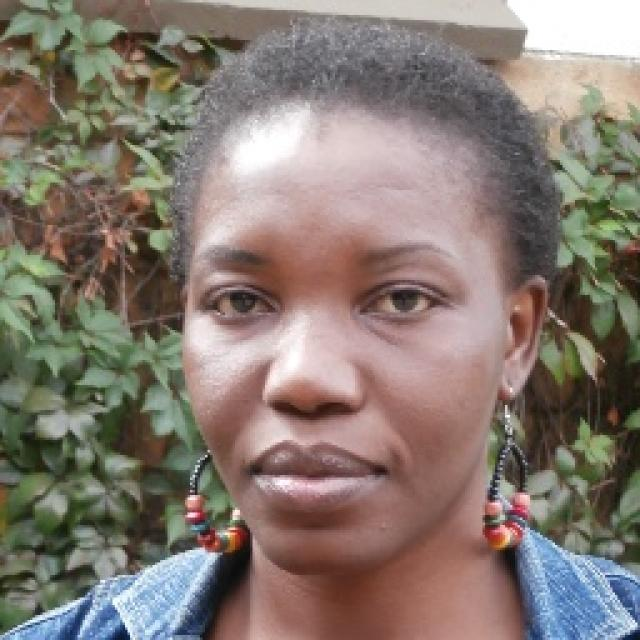earlobe: (497, 351, 532, 404)
eye: (357, 286, 446, 320), (208, 288, 276, 322)
nose: (264, 397, 364, 438)
wholeear: (497, 274, 548, 404)
